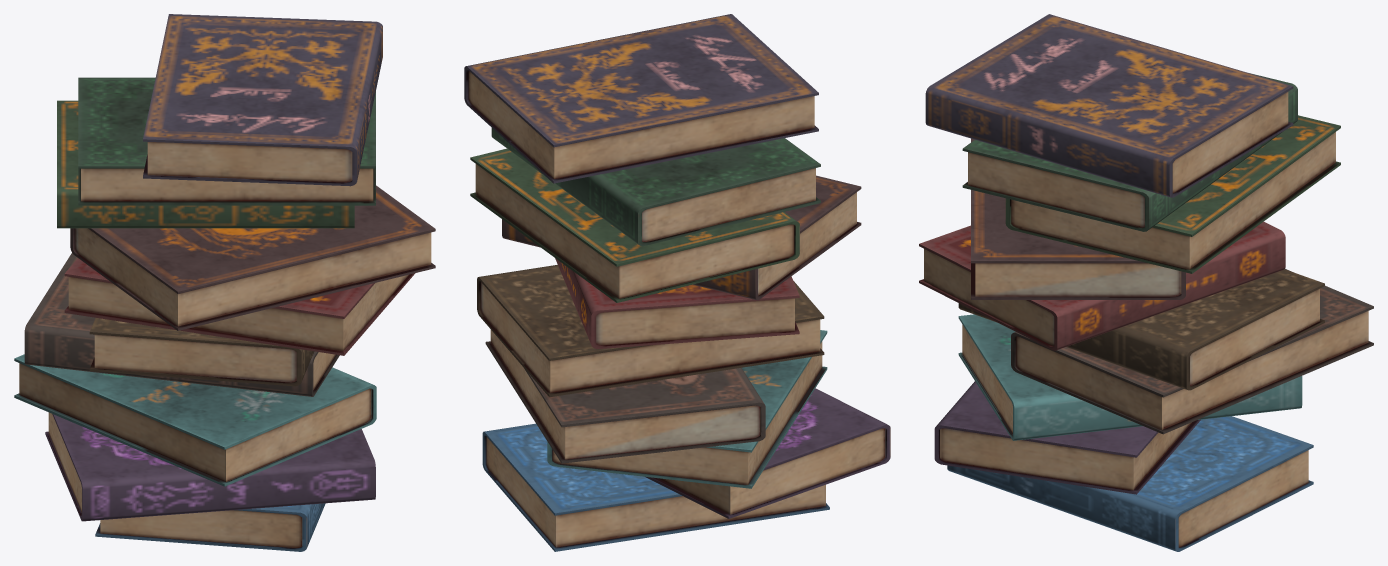
Rendered from sb_obj_indoor048_Books01.fbx.
3 views of the same model, side by side, from view 1: azimuth 30°, elevation 25°; view 2: azimuth 150°, elevation 25°; view 3: azimuth 270°, elevation 25° (orthographic).
Parts seen in each view (by area): view 1: sb_obj_indoor048_Books01; view 2: sb_obj_indoor048_Books01; view 3: sb_obj_indoor048_Books01.
Boxes of the visible parts, bbox=[...] form: sb_obj_indoor048_Books01: bbox=[14, 14, 435, 551]; sb_obj_indoor048_Books01: bbox=[464, 14, 890, 551]; sb_obj_indoor048_Books01: bbox=[919, 14, 1373, 551].
Size of the model in its own units: 0.6052 by 0.6357 by 0.6489.
